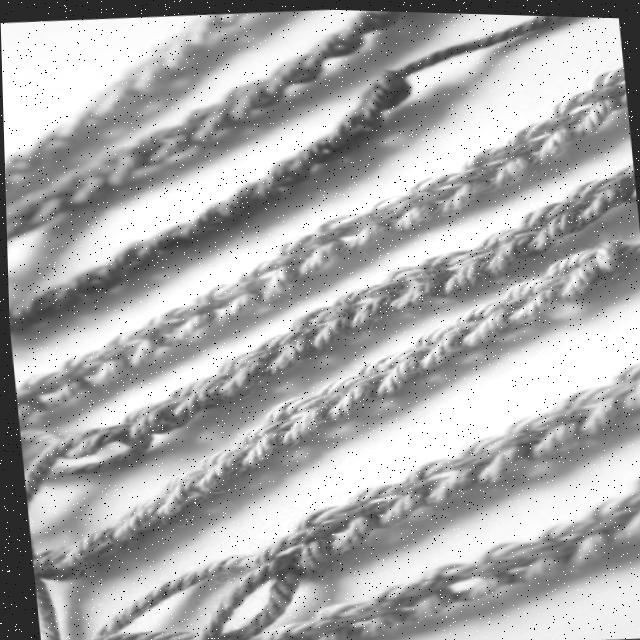ch: (291, 493, 395, 555), (248, 518, 341, 576), (407, 158, 504, 213), (450, 427, 542, 482), (456, 131, 546, 187), (398, 450, 492, 503), (504, 105, 591, 160), (543, 236, 622, 295), (533, 512, 622, 563), (506, 403, 590, 457), (417, 555, 526, 596), (363, 182, 459, 228), (547, 79, 625, 135), (550, 378, 630, 432), (353, 475, 436, 526), (373, 574, 465, 619), (353, 341, 430, 393), (311, 207, 394, 254), (475, 539, 571, 579), (420, 243, 495, 292), (192, 276, 265, 326), (265, 391, 339, 440), (15, 364, 97, 408), (315, 367, 387, 417), (566, 172, 632, 226), (500, 270, 573, 318), (310, 596, 406, 632), (518, 198, 583, 251), (274, 227, 346, 274), (252, 323, 319, 373), (58, 343, 134, 387), (332, 281, 404, 327), (231, 415, 297, 464), (288, 300, 358, 346), (478, 223, 541, 273), (582, 487, 640, 540), (237, 253, 302, 300), (214, 346, 277, 394), (380, 264, 457, 303), (412, 320, 473, 369), (167, 370, 231, 416), (87, 144, 158, 182), (143, 304, 212, 342), (120, 396, 183, 437), (182, 200, 247, 239), (5, 191, 66, 232), (137, 121, 198, 161), (10, 285, 67, 327), (111, 492, 163, 538), (457, 297, 510, 342), (102, 325, 161, 365), (48, 166, 110, 204), (152, 467, 203, 512), (304, 28, 362, 67), (261, 615, 350, 640), (365, 72, 411, 116), (123, 54, 170, 97), (196, 445, 244, 487), (227, 76, 277, 115), (188, 98, 236, 138), (220, 180, 275, 214), (63, 262, 119, 295), (267, 53, 318, 89), (338, 8, 397, 36), (151, 30, 191, 70), (135, 224, 188, 254), (304, 131, 350, 165), (262, 154, 308, 186), (332, 106, 374, 140), (611, 359, 640, 405), (106, 239, 150, 268), (590, 63, 624, 83), (627, 472, 640, 488)
